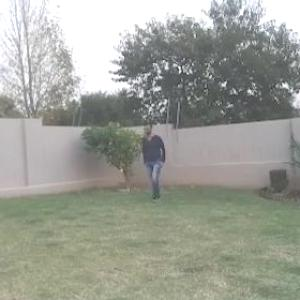follow: (142, 116, 169, 204)
